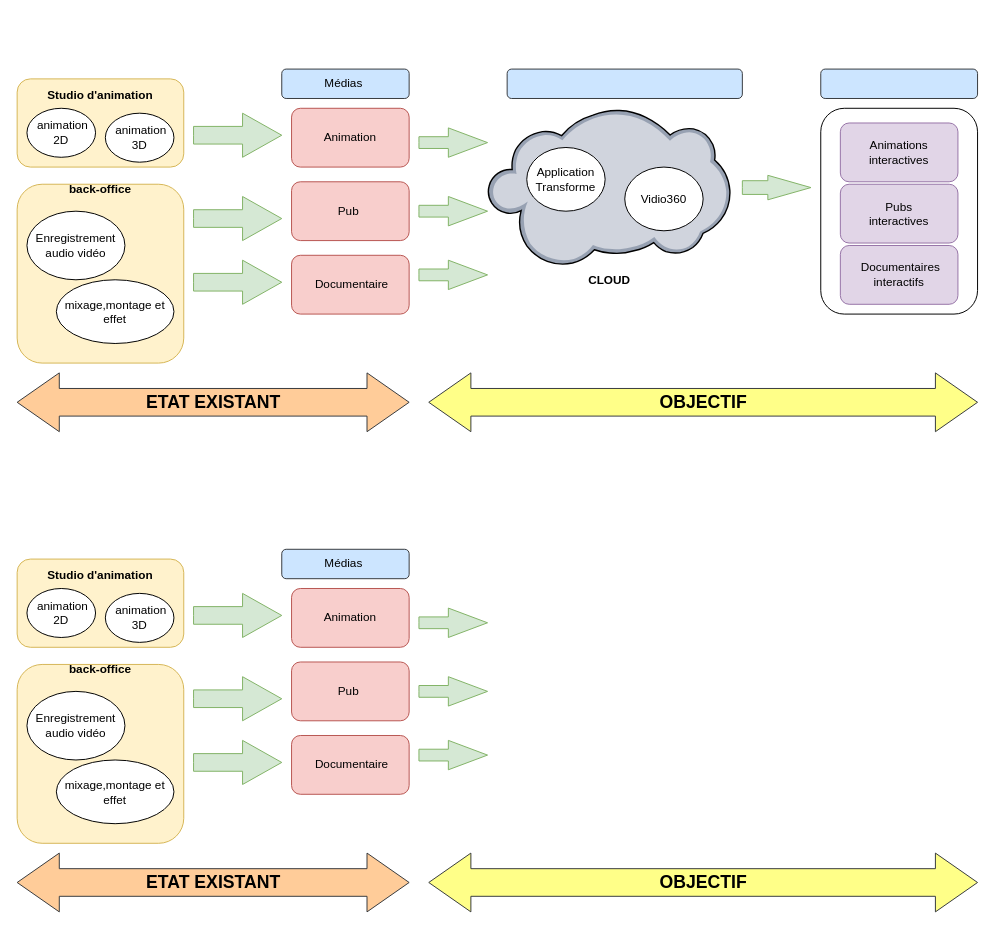
This 995x929 diagram has some shape labels left out. Here are the shapes that lost their labels. From the top down, the centre of each, then its label:
At point 624,83: "Laboratoire de média interactifs".
At point 899,83: "Médias composites".
